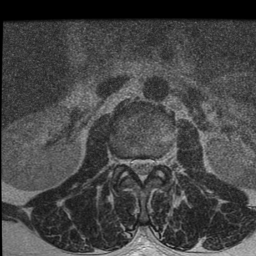CCS_normal: (138, 149, 146, 190)
LFS_normal: (155, 149, 164, 175)
LLS_normal: (147, 150, 155, 178)
RFS_normal: (121, 148, 130, 174)
RLS_normal: (130, 151, 138, 179)
